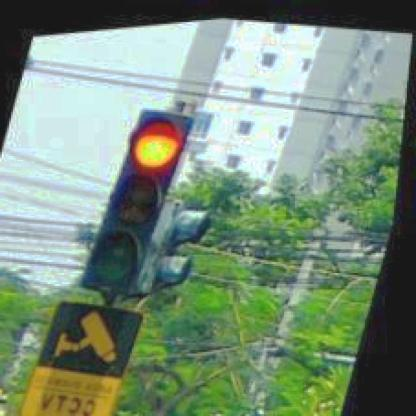Traffic Light -Red-: (83, 97, 199, 292)
